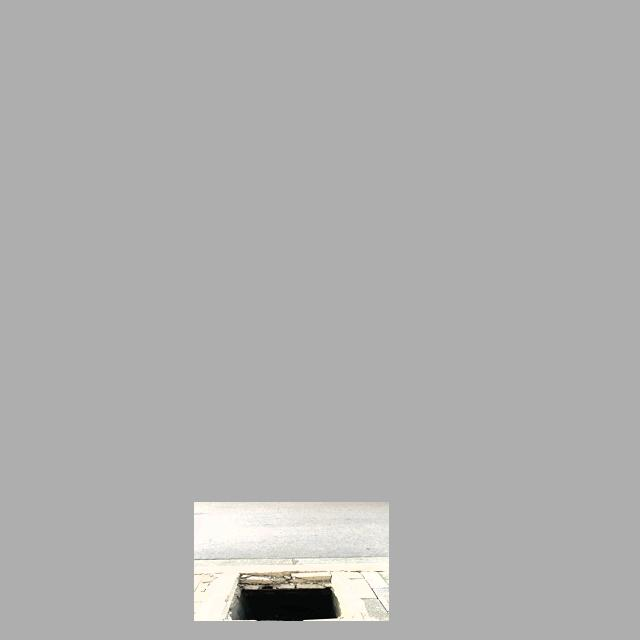lose: (210, 565, 354, 620)
